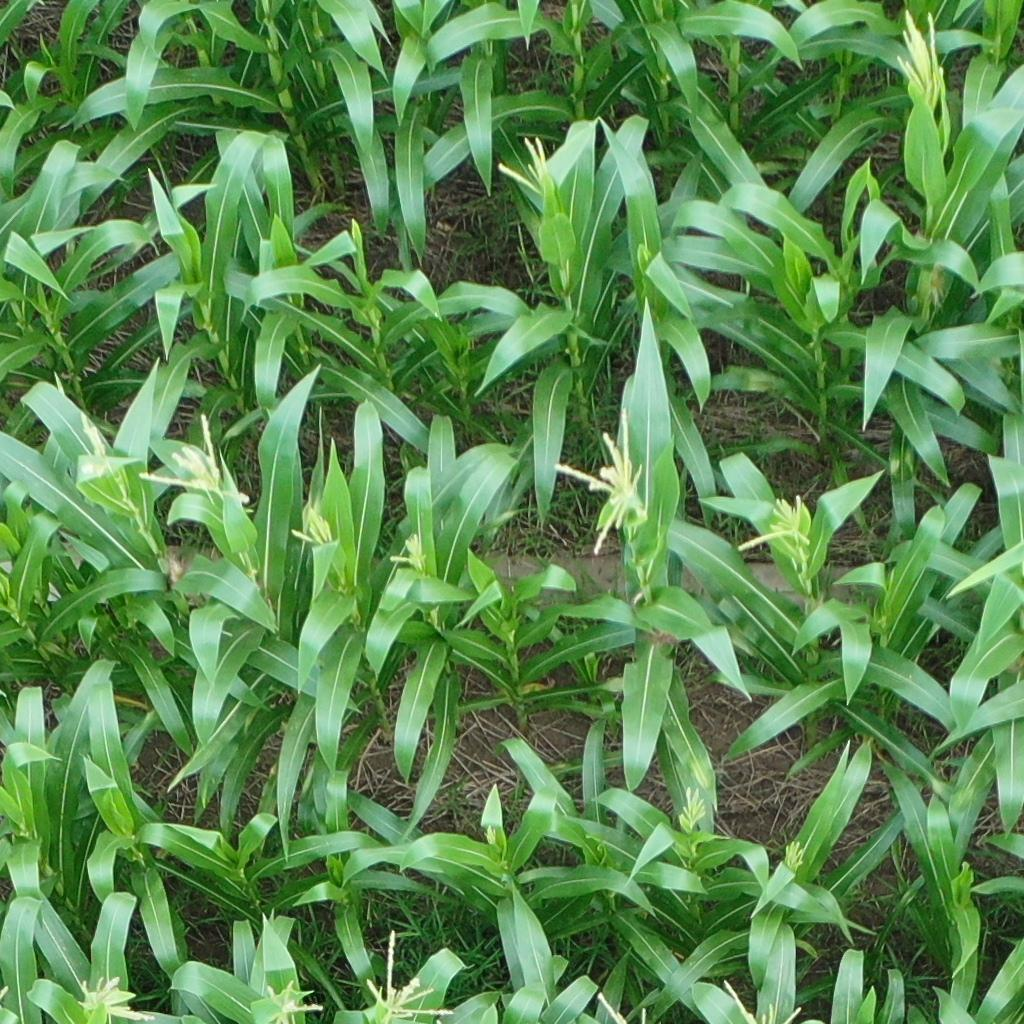Tassel: (551, 408, 652, 557), (361, 927, 461, 1023), (135, 411, 232, 499), (891, 6, 945, 97), (739, 492, 810, 561), (497, 128, 558, 198), (718, 977, 803, 1024), (74, 971, 154, 1019), (259, 977, 326, 1024), (293, 507, 339, 551), (79, 411, 112, 468), (598, 989, 649, 1024), (389, 531, 430, 574), (674, 785, 707, 830), (781, 841, 805, 872), (484, 821, 500, 849)
